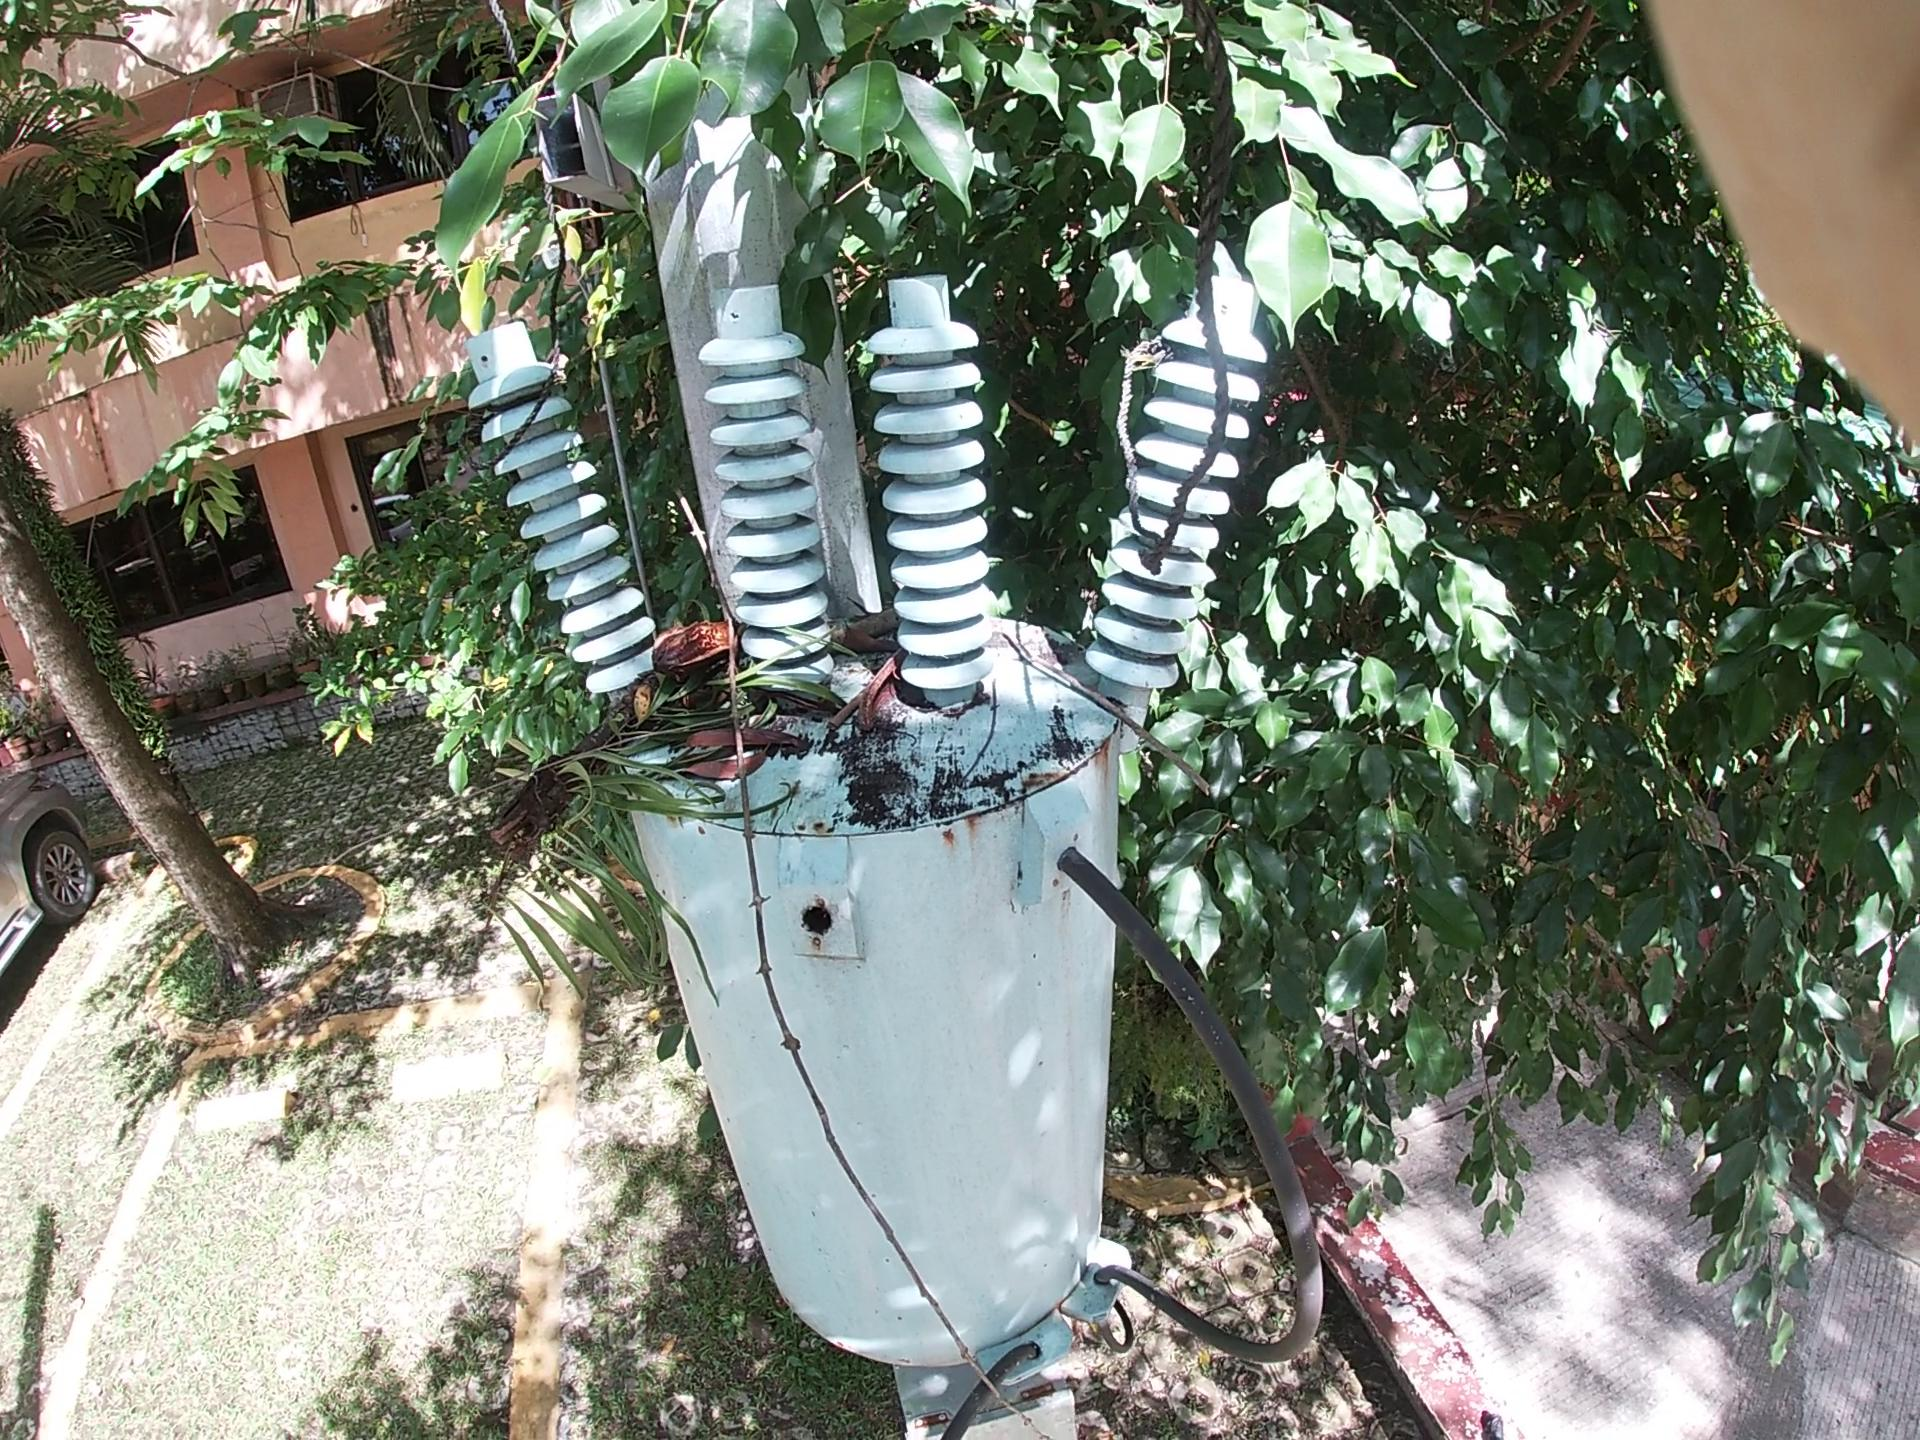branch with leaves: (514, 430, 869, 989)
leaf: (694, 731, 770, 806)
mahogany fruit: (841, 655, 952, 800), (593, 602, 735, 693)
tree branch: (674, 476, 919, 1280), (931, 560, 1185, 824), (857, 517, 909, 793)
